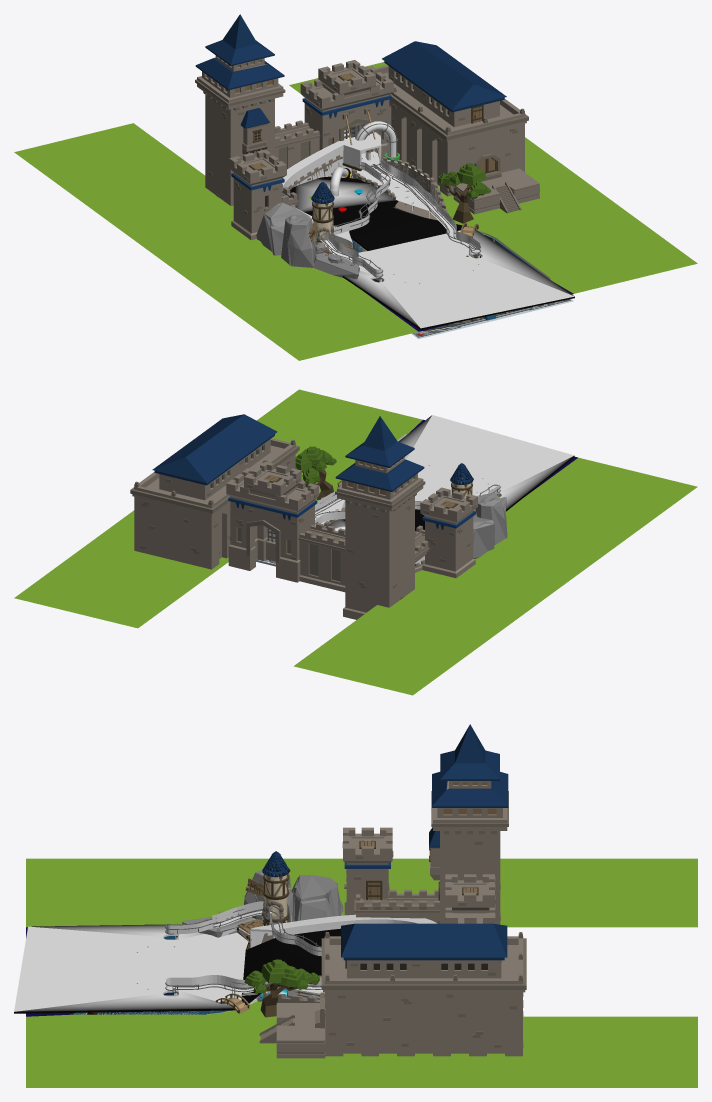
File: Pinball_BaseFinal.glb
3 renders of one model, top to bottom at view 1: azimuth 30°, elevation 25°; view 2: azimuth 150°, elevation 25°; view 3: azimuth 270°, elevation 25°, orthographic. The views are drawn at different scales.
Parts seen in each view (by area): view 1: visual_field, visual_castle, coll_glass_panel.001, visual_mine, coll_ramp_back_test, coll_visual_habit_right_9_top, visual_tree, visual_faquir, coll_visual_habit_right_left_9_top.002, visual_playfield_left_hole, visual_habit_right_left_9_top.002, visual_standard (+3 smaller); view 2: visual_field, visual_castle, coll_glass_panel.001, visual_mine, visual_tree; view 3: visual_field, visual_castle, coll_glass_panel.001, visual_mine, visual_tree, coll_ramp_back_test, coll_visual_habit_right_left_9_top.002, coll_visual_habit_right_9_top, visual_standard, visual_habit_right_left_9_top.002.
Part boxes in pixels (x1,y1,x2,y2): visual_field: [14, 62, 697, 360]; visual_castle: [195, 14, 539, 239]; coll_glass_panel.001: [290, 176, 574, 329]; visual_mine: [256, 182, 359, 279]; coll_ramp_back_test: [282, 132, 381, 248]; coll_visual_habit_right_9_top: [372, 157, 480, 250]; visual_tree: [438, 163, 491, 223]; visual_faquir: [351, 157, 448, 220]; coll_visual_habit_right_left_9_top.002: [320, 161, 389, 276]; visual_playfield_left_hole: [336, 195, 573, 338]; visual_habit_right_left_9_top.002: [319, 164, 390, 277]; visual_standard: [365, 198, 573, 331]; visual_field: [14, 389, 697, 695]; visual_castle: [130, 414, 477, 619]; coll_glass_panel.001: [325, 415, 574, 531]; visual_mine: [450, 463, 507, 558]; visual_tree: [295, 446, 336, 499]; visual_field: [26, 858, 697, 1087]; visual_castle: [215, 724, 526, 1058]; coll_glass_panel.001: [14, 924, 340, 1013]; visual_mine: [182, 851, 343, 949]; visual_tree: [244, 959, 319, 1017]; coll_ramp_back_test: [250, 914, 436, 947]; coll_visual_habit_right_left_9_top.002: [166, 901, 321, 956]; coll_visual_habit_right_9_top: [166, 975, 322, 992]; visual_standard: [26, 927, 276, 1016]; visual_habit_right_left_9_top.002: [165, 906, 321, 951].
Size of what is drawn, in the model's own units: 77.18 by 40.98 by 97.28.
62 materials, 10 textured.
